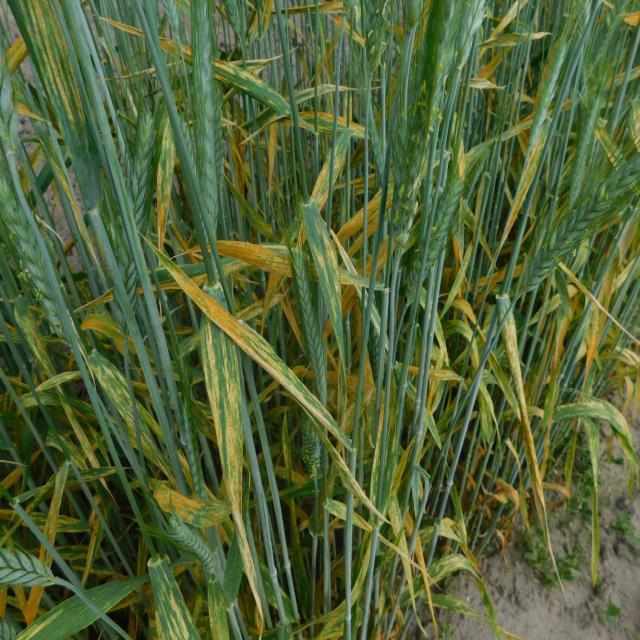wheat-yellowrust: (164, 253, 336, 438), (106, 19, 290, 119), (497, 292, 552, 572), (201, 309, 255, 578), (89, 353, 181, 472), (498, 120, 554, 246), (27, 472, 67, 627), (300, 205, 343, 349), (150, 555, 204, 640), (153, 479, 231, 529), (313, 135, 352, 213), (215, 241, 291, 278), (16, 599, 79, 640), (82, 311, 142, 352), (157, 113, 174, 250)
